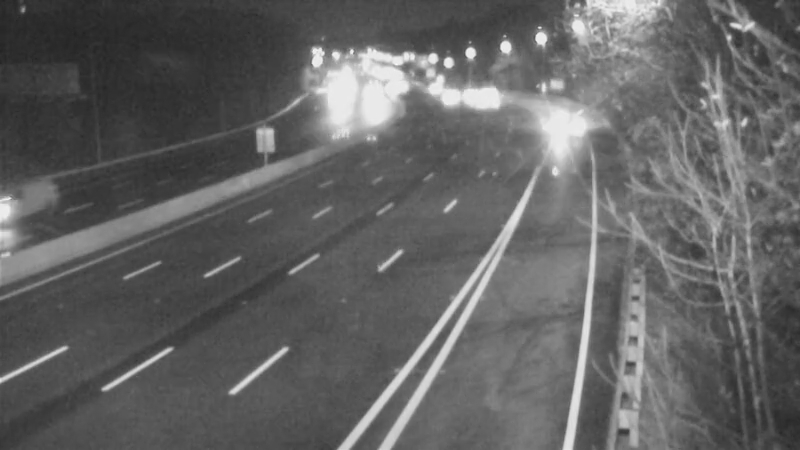vehicle: (1, 167, 68, 247), (420, 67, 470, 117), (455, 77, 505, 127), (533, 107, 583, 157)
